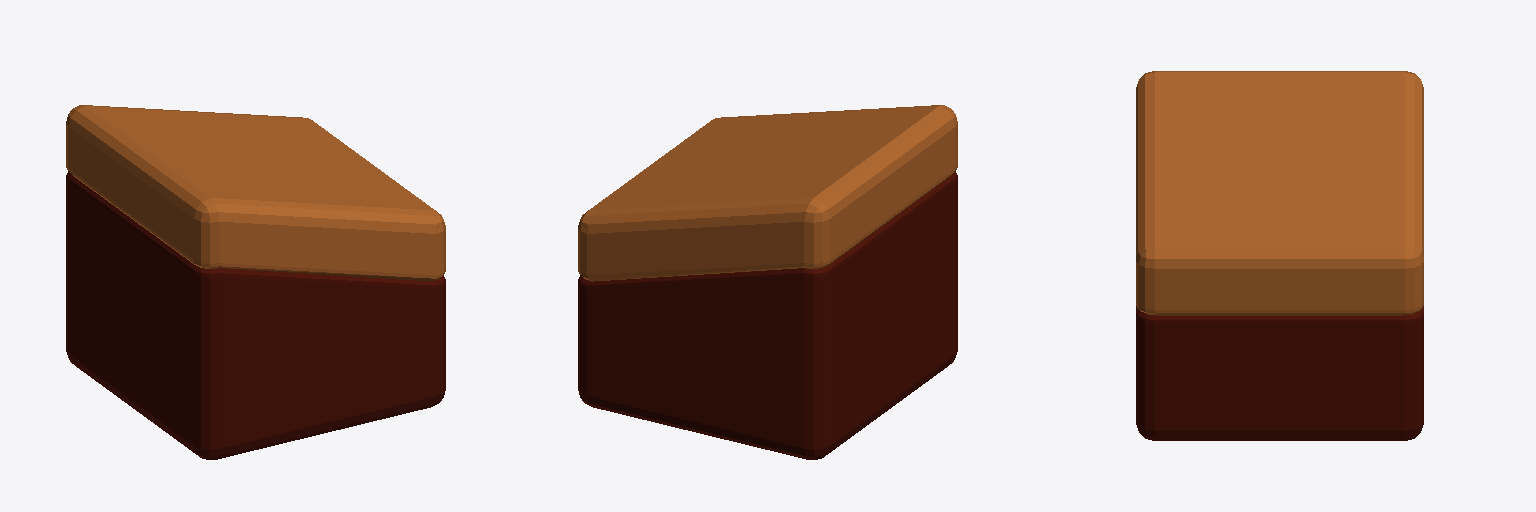
The model's file is tileSlopeMediumHigh_desert.obj.
The picture shows the model from 3 angles: view 1: azimuth 30°, elevation 25°; view 2: azimuth 150°, elevation 25°; view 3: azimuth 270°, elevation 25°; orthographic projection.
Parts seen in each view (by area): view 1: tileSlopeMediumHigh_desert_Cube.004; view 2: tileSlopeMediumHigh_desert_Cube.004; view 3: tileSlopeMediumHigh_desert_Cube.004.
Boxes of the visible parts, x1=… form: tileSlopeMediumHigh_desert_Cube.004: x1=66, y1=105, x2=445, y2=459; tileSlopeMediumHigh_desert_Cube.004: x1=578, y1=105, x2=957, y2=459; tileSlopeMediumHigh_desert_Cube.004: x1=1136, y1=71, x2=1423, y2=440.
Bounding box in the file's own units: 2 × 2 × 2.